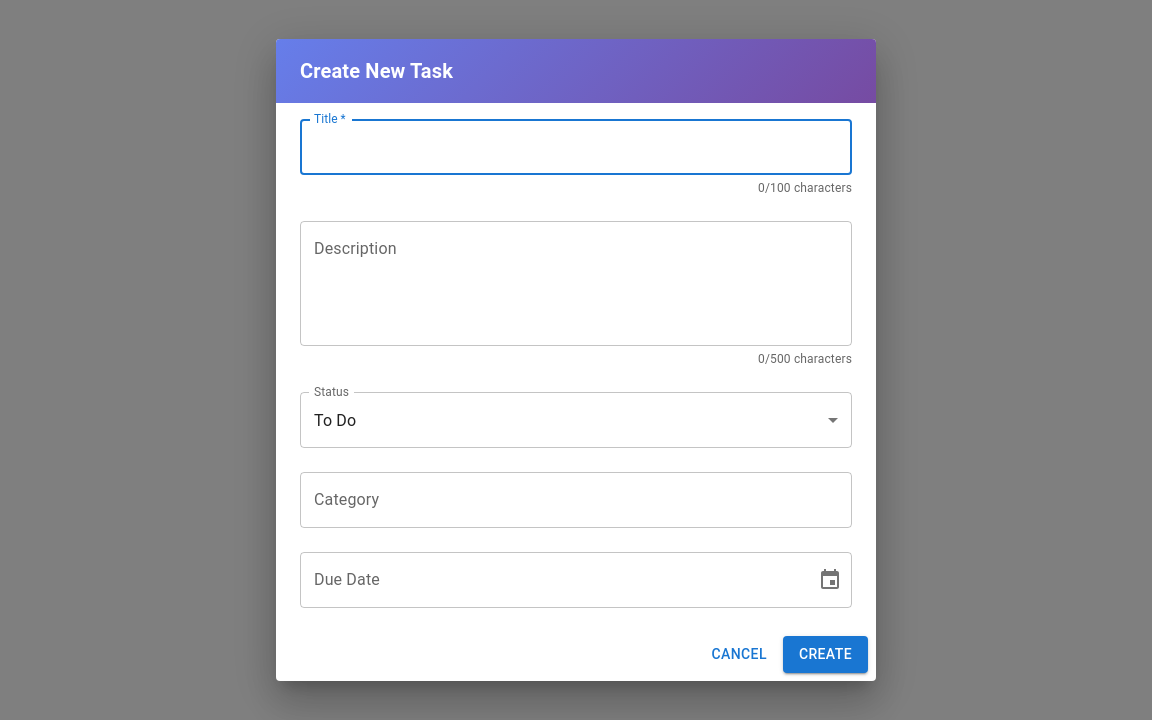
Test: TaskForm › Create Mode › should update character counter as user types
The width and height of the screenshot is (1152, 720).
Type "Test Task" into the field labelled "Title *" at point(576, 147), box [300,119,852,175]
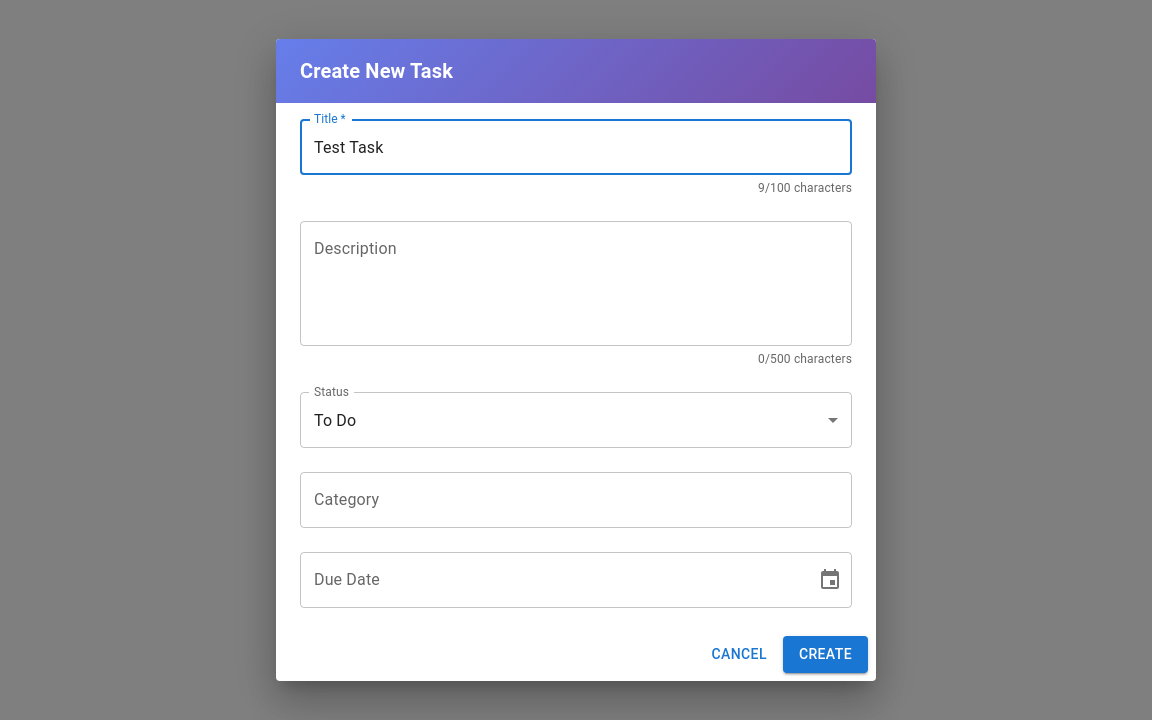
Check: the text "9/100 characters" is shown, box [758,181,852,195]
